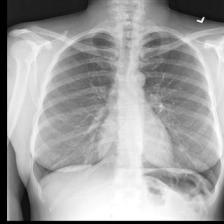normal: (29, 24, 224, 210)
